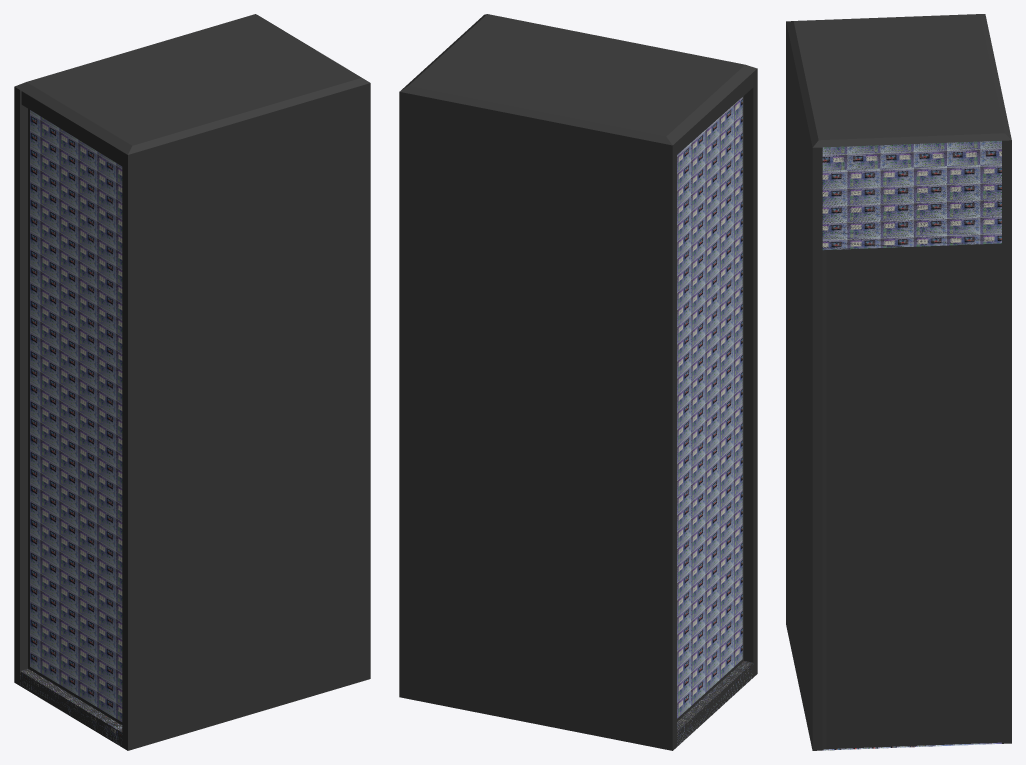
The model's file is JGCS.dae.
3 views of the same model, side by side, from view 1: azimuth 30°, elevation 25°; view 2: azimuth 150°, elevation 25°; view 3: azimuth 270°, elevation 25° (orthographic).
Parts seen in each view (by area): view 1: 组件_1 (×6), group_4, group_0, group_8, group_2, group_3; view 2: 组件_1 (×6), group_8, group_7, group_4, group_1, group_3; view 3: 组件_1 (×5), group_0, group_7, group_4, group_2.
Boxes of the visible parts, x1,y1,x2,y2 form: 组件_1 (×6): (14,14,369,747); group_4: (122,149,147,750); group_0: (350,83,370,684); group_8: (14,87,27,685); group_2: (148,89,350,172); group_3: (21,91,122,166); 组件_1 (×6): (399,14,756,746); group_8: (650,141,676,750); group_7: (399,92,422,701); group_4: (744,68,757,677); group_1: (422,96,649,165); group_3: (677,72,753,154); 组件_1 (×5): (786,14,1011,749); group_0: (810,138,822,750); group_7: (1002,140,1011,743); group_4: (786,22,788,634); group_2: (788,33,810,160).
Size of the model in its own units: 37.38 by 26.66 by 79.13.
4 materials, 1 textured.
